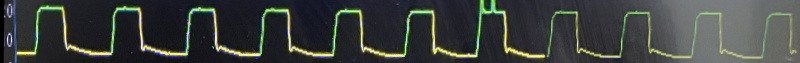hydrop_pressure: (454, 0, 536, 63)
normal_pressure: (22, 2, 454, 63), (542, 2, 799, 63)
